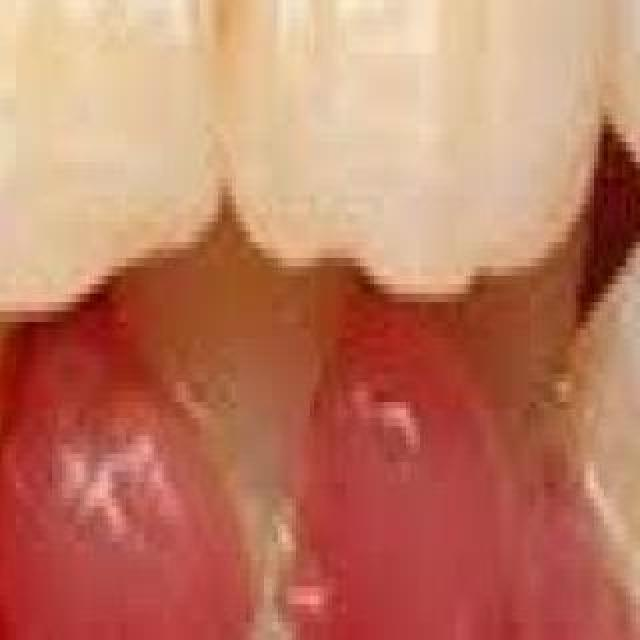maligned: (0, 150, 18, 640)
